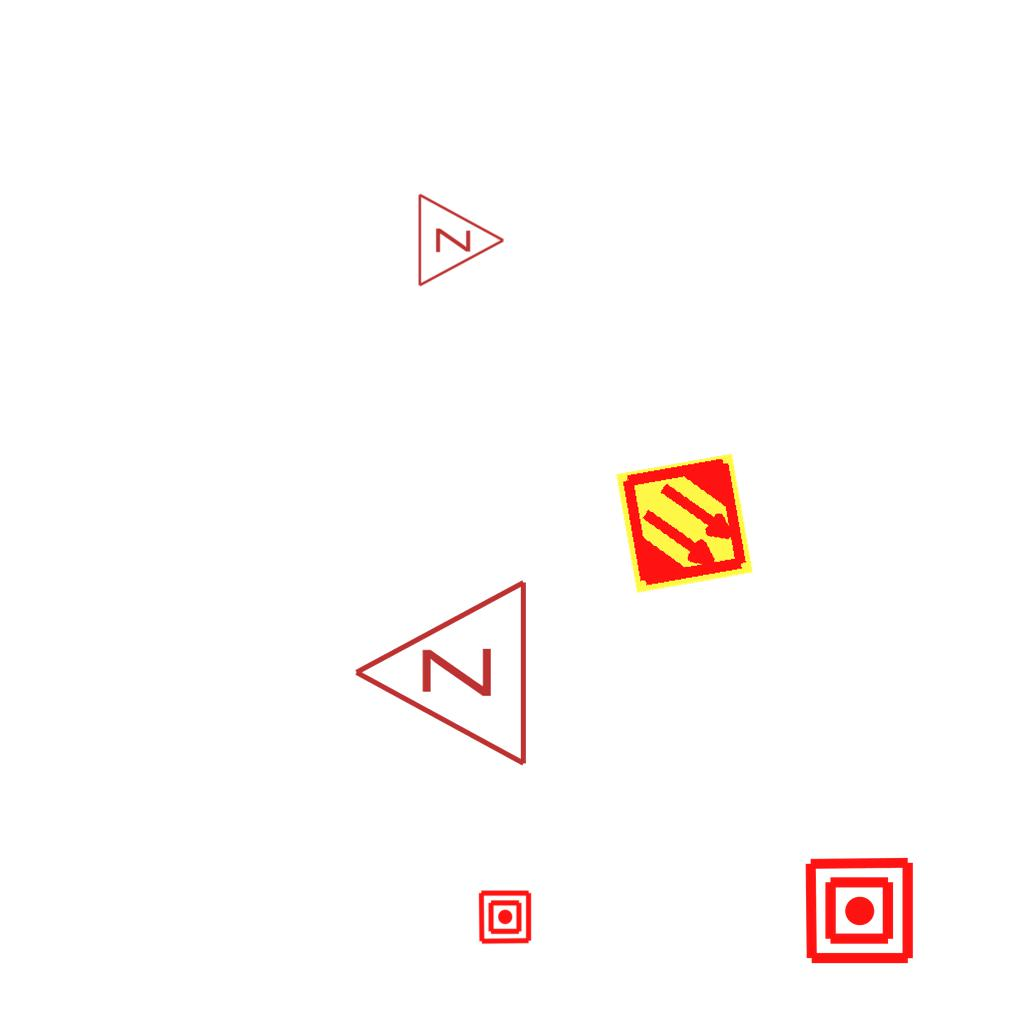ASR_Ansaugrauchmelder: (612, 451, 757, 596)
NAM-Nichtautomatischer_Melder: (803, 854, 916, 967), (477, 889, 533, 945)
Zimmersignalleuchte: (341, 577, 541, 773), (411, 190, 511, 288)
